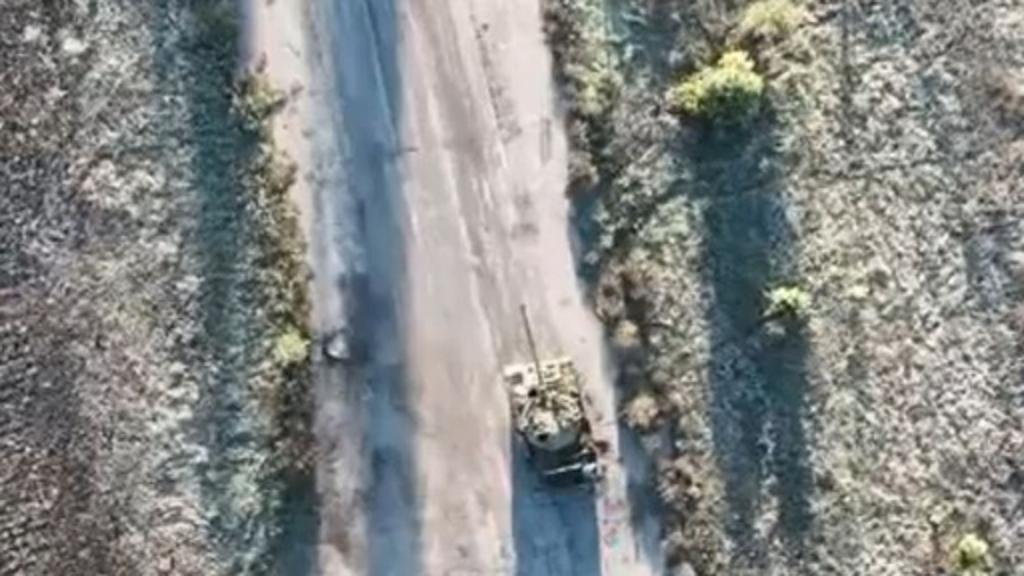TANK: (486, 296, 606, 508)
